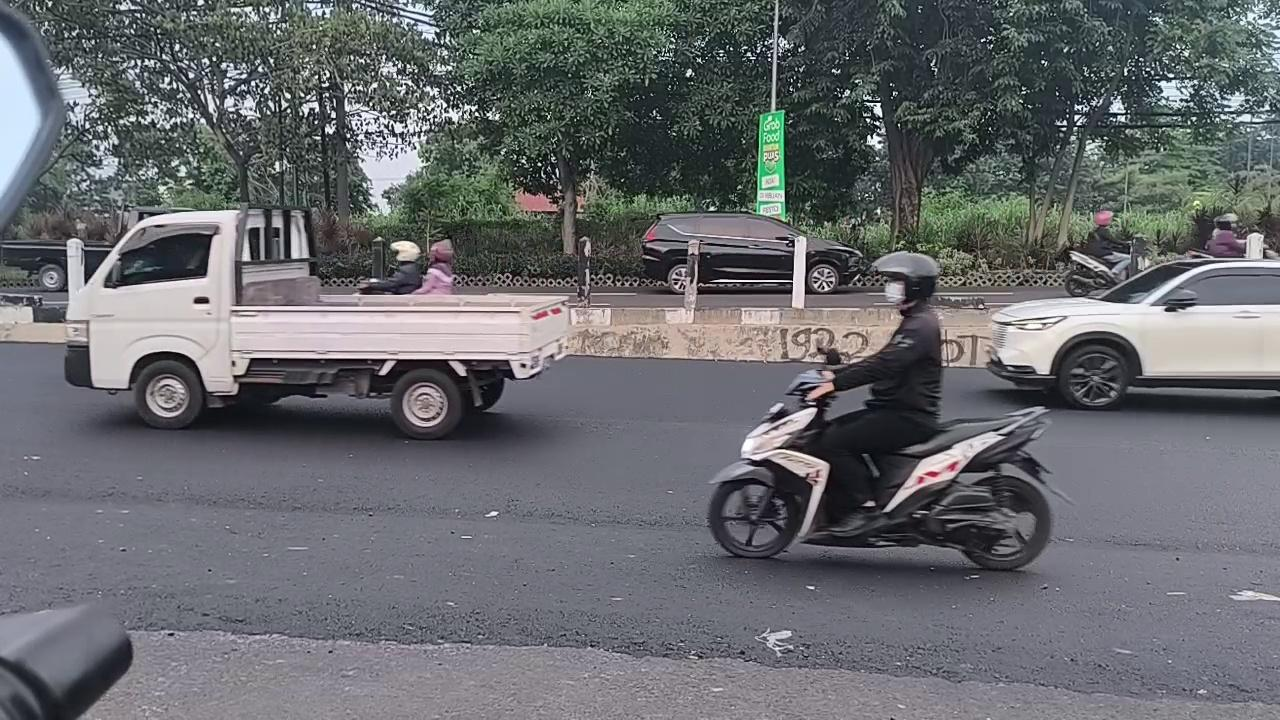Helmet: (808, 252, 942, 535)
Motor: (708, 370, 1071, 570), (1065, 250, 1122, 296)
